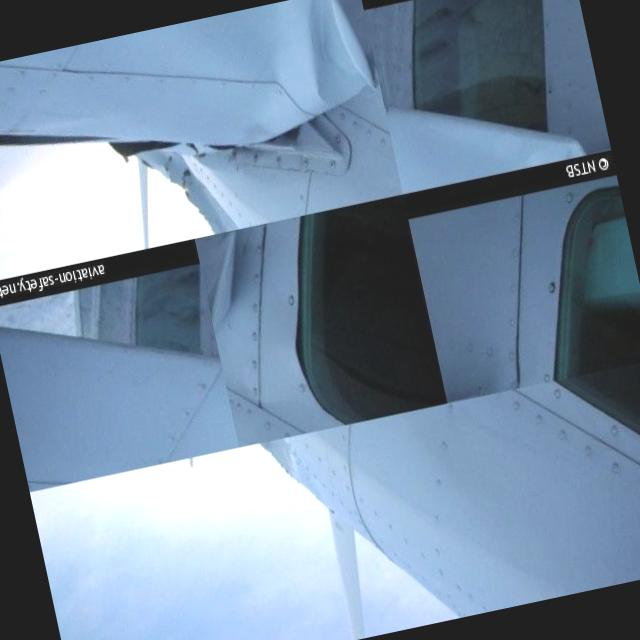dent: (292, 0, 382, 111)
